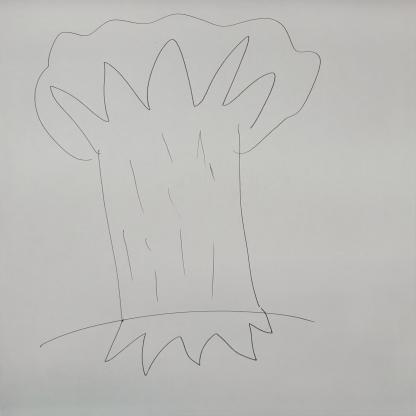branch_sharp: (50, 39, 271, 132)
crown_cloud: (34, 14, 321, 162)
root_under: (106, 303, 271, 376)
trunk_bark: (98, 168, 258, 301)
